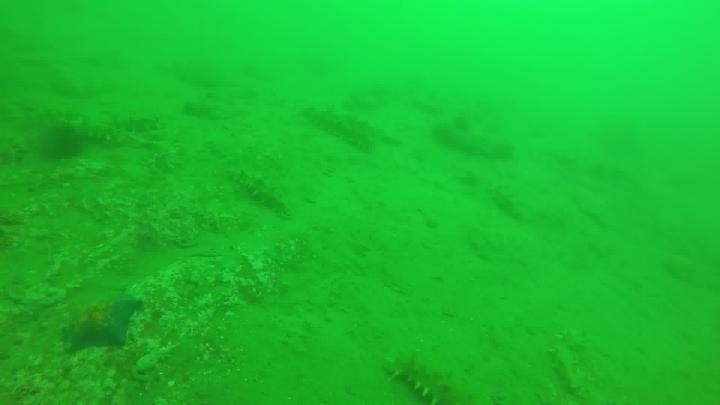echinus: (39, 121, 86, 164)
holothurian: (382, 349, 476, 405), (299, 100, 378, 154), (547, 327, 593, 401), (232, 165, 292, 218), (56, 113, 127, 148), (112, 108, 164, 135)
starfish: (58, 286, 144, 356)
